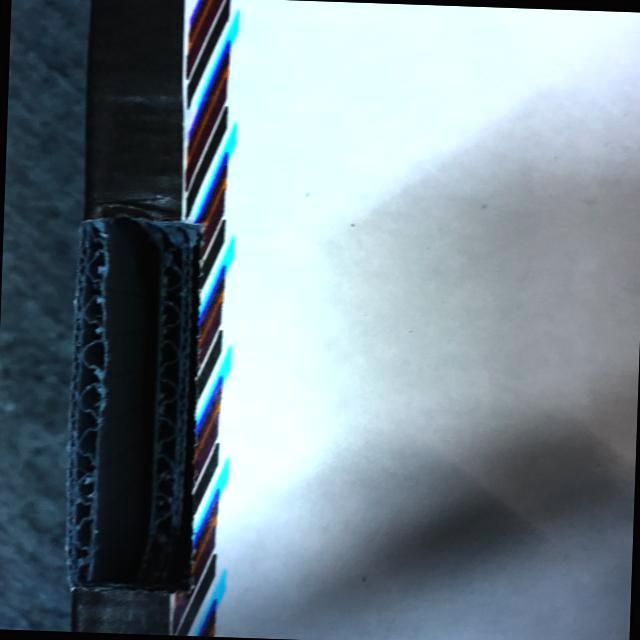cardboard: (42, 190, 234, 616)
